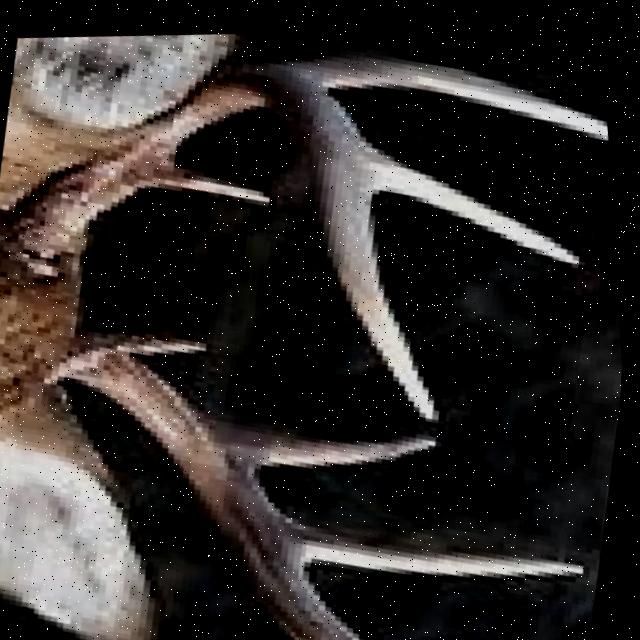L-F: (53, 326, 380, 640)
L-G1: (97, 326, 214, 351)
L-G2: (212, 411, 443, 462)
L-G3: (295, 509, 595, 569)
R-F: (0, 50, 446, 410)
R-G1: (145, 158, 277, 199)
R-G2: (271, 40, 609, 128)
R-G3: (364, 128, 587, 253)
